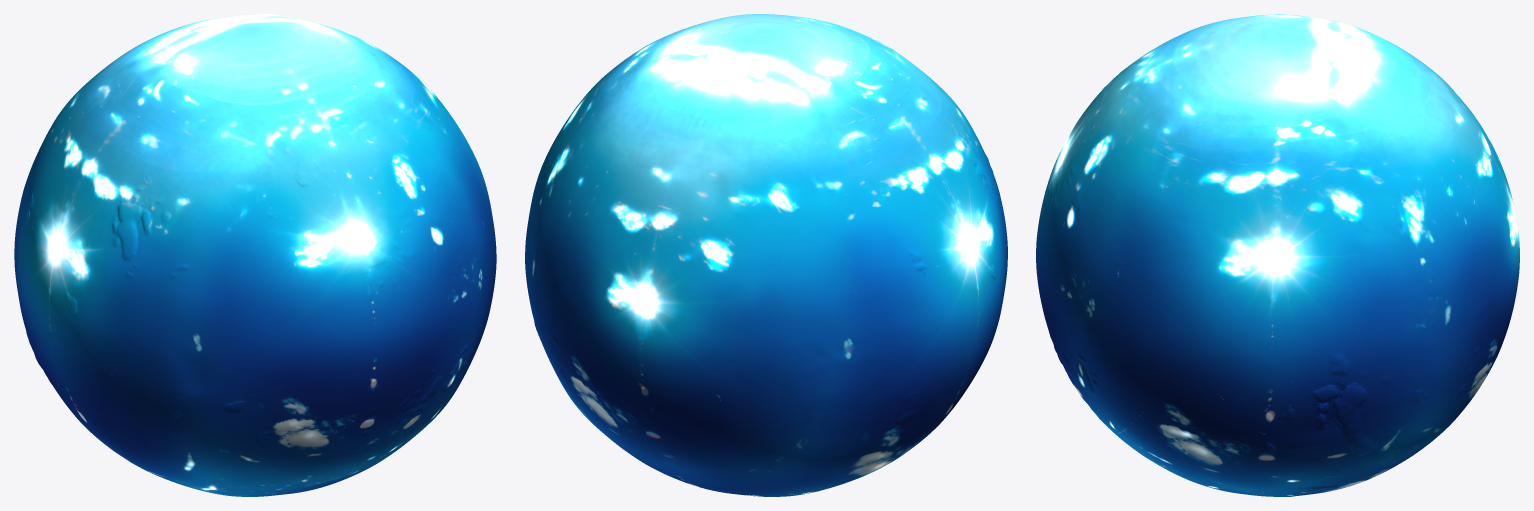
The model's file is earth.glb.
3 views of the same model, side by side, from view 1: azimuth 30°, elevation 25°; view 2: azimuth 150°, elevation 25°; view 3: azimuth 270°, elevation 25° (orthographic).
Bounding box in the file's own units: 1.9 × 1.9 × 1.9.
Materials: 1 (1 with a texture image).
